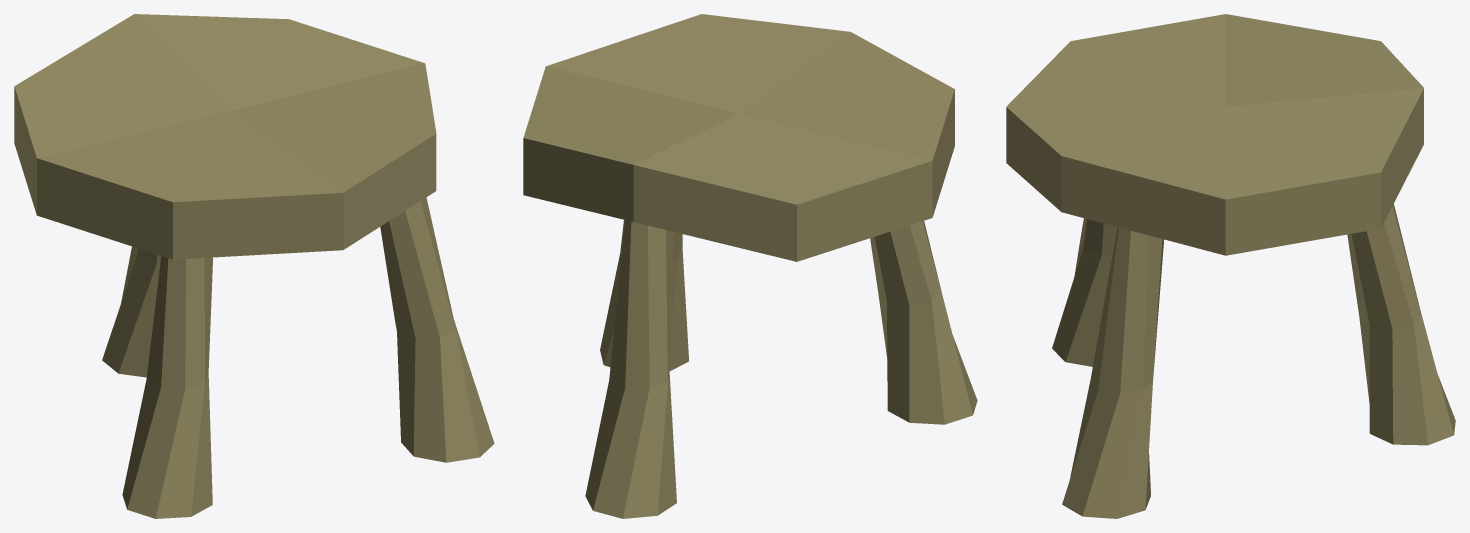
File: WoodenStool.fbx
3 renders of one model, left to right at view 1: azimuth 30°, elevation 25°; view 2: azimuth 150°, elevation 25°; view 3: azimuth 270°, elevation 25°, orthographic. The views are drawn at different scales.
Visible parts, largest first — view 1: Cube; view 2: Cube; view 3: Cube.
Boxes of the visible parts, x1,y1,x2,y2 form: Cube: [14, 14, 494, 518]; Cube: [523, 14, 977, 518]; Cube: [1006, 14, 1455, 518].
Size of the model in its own units: 1.12 by 0.9566 by 1.15.
